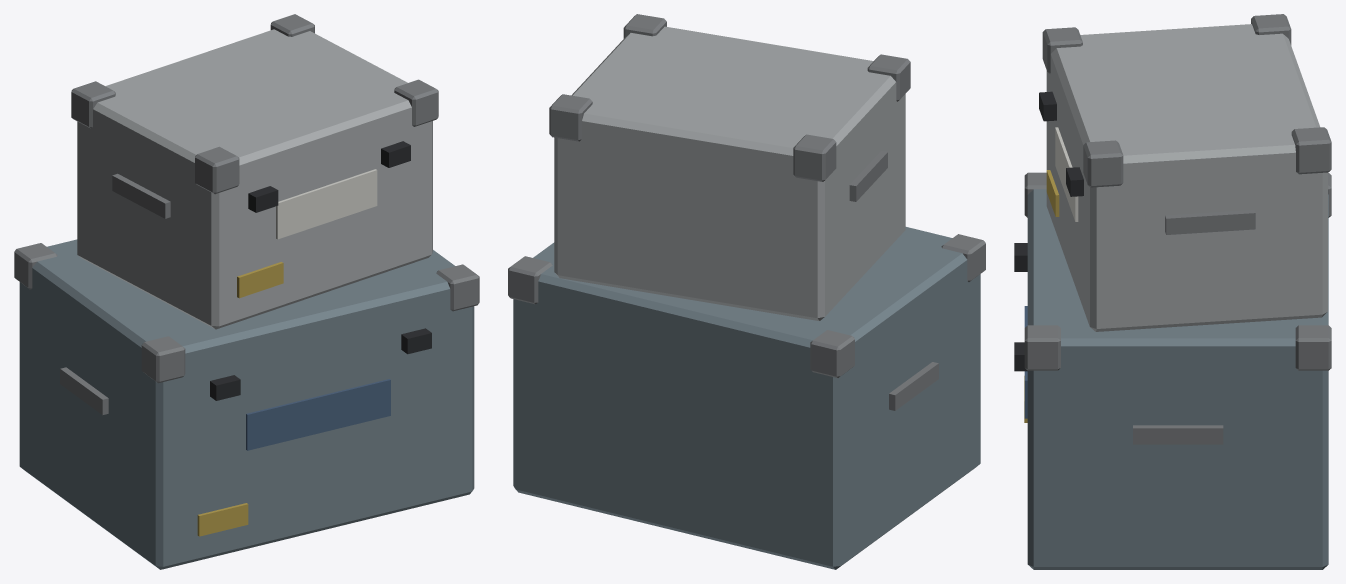
File: astro_supply_crate_small.fbx
The picture shows the model from 3 angles, left to right: view 1: azimuth 30°, elevation 25°; view 2: azimuth 150°, elevation 25°; view 3: azimuth 270°, elevation 25°; orthographic projection. The views are drawn at different scales.
Parts seen in each view (by area): view 1: SupplyCrateSmall_Body; view 2: SupplyCrateSmall_Body; view 3: SupplyCrateSmall_Body.
Boxes of the visible parts, <box> form: SupplyCrateSmall_Body: <box>14,14,479,569</box>; SupplyCrateSmall_Body: <box>508,14,985,569</box>; SupplyCrateSmall_Body: <box>1014,14,1331,569</box>.
Size of the model in its own units: 135 by 151 by 106.
